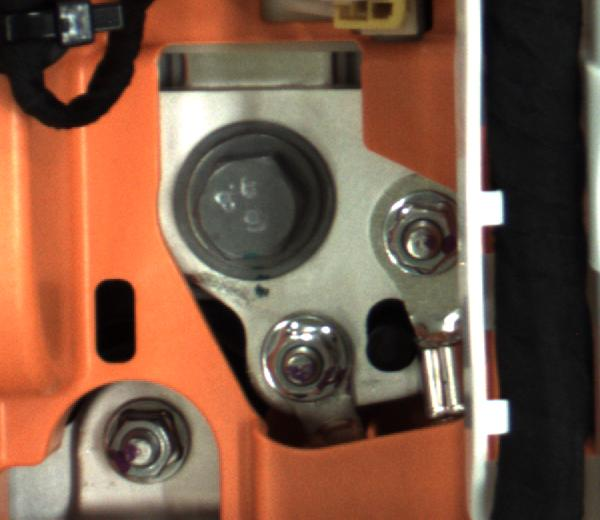screw_s: (84, 394, 196, 494), (252, 316, 354, 407), (373, 193, 468, 286)
